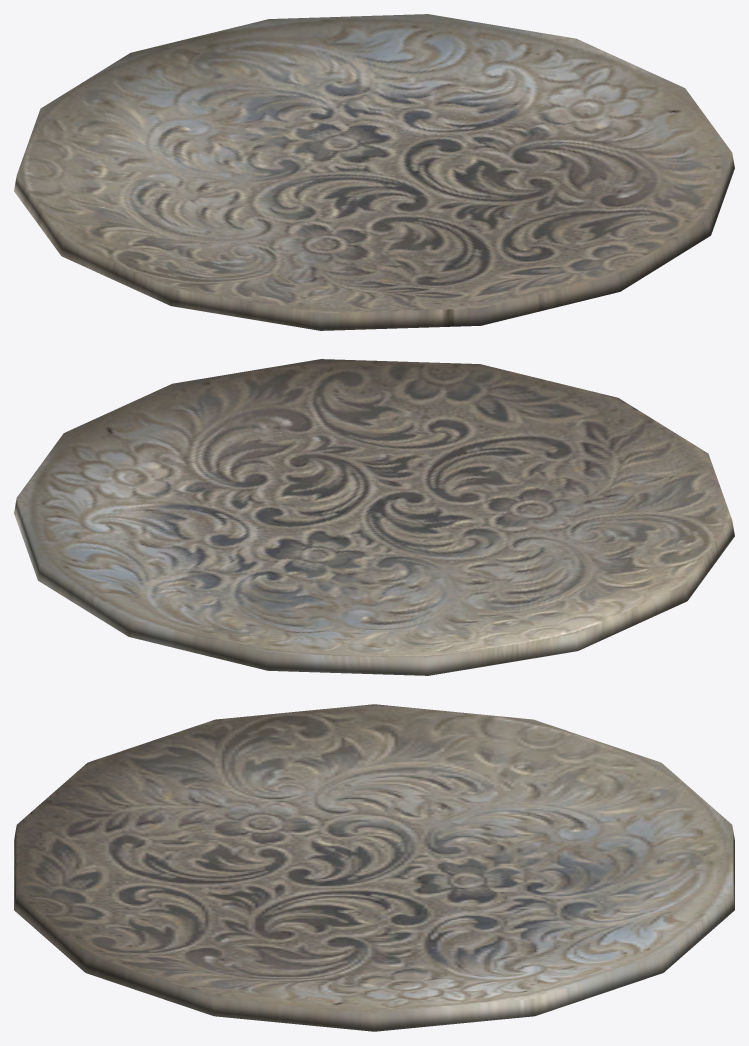
File: plate.obj
3 renders of one model, top to bottom at view 1: azimuth 30°, elevation 25°; view 2: azimuth 150°, elevation 25°; view 3: azimuth 270°, elevation 25°, orthographic. The views are drawn at different scales.
Parts seen in each view (by area): view 1: plate; view 2: plate; view 3: plate.
Boxes of the visible parts, <box> form: plate: <box>14,14,734,330</box>; plate: <box>14,359,734,675</box>; plate: <box>14,704,734,1031</box>.
Size of the model in its own units: 15.6 by 0.7477 by 15.21.
